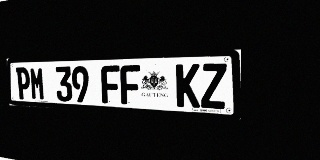3: (55, 66, 72, 102)
9: (71, 66, 89, 103)
F: (120, 65, 141, 105), (101, 65, 120, 104)
K: (176, 64, 200, 108)
M: (29, 67, 45, 100)
P: (16, 67, 31, 100)
Z: (201, 63, 227, 109)
